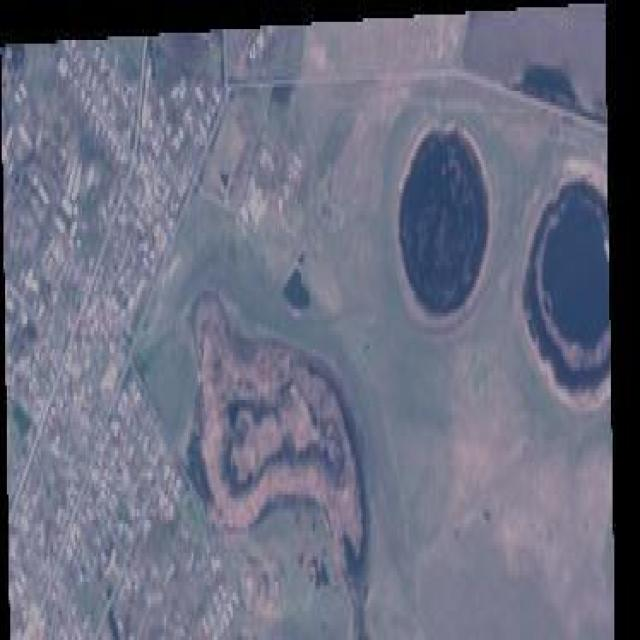water: (400, 131, 486, 309), (532, 185, 607, 375), (282, 255, 306, 305)
